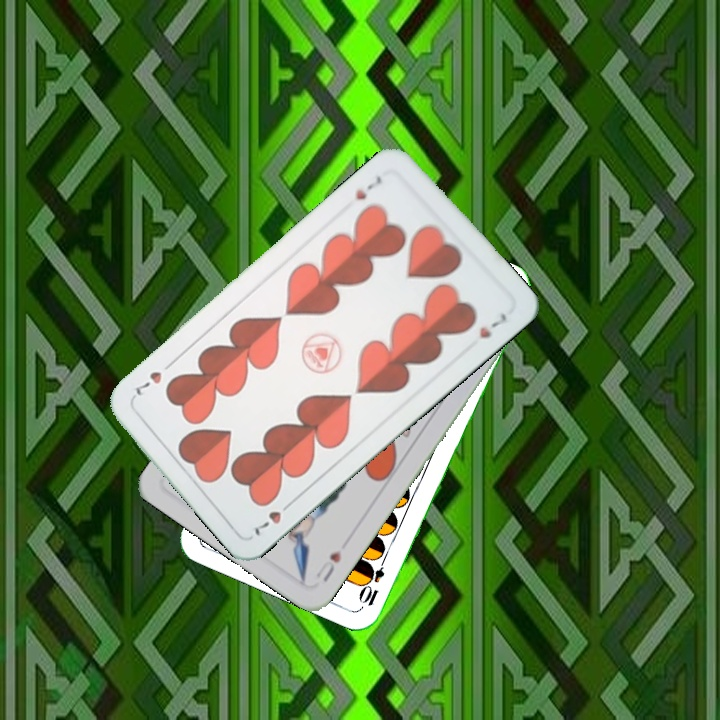E10: (359, 551, 390, 609)
H7: (246, 496, 297, 539), (351, 171, 386, 203)
HU: (311, 546, 344, 585)
